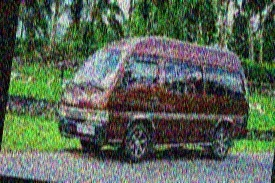van: (48, 19, 262, 178)
